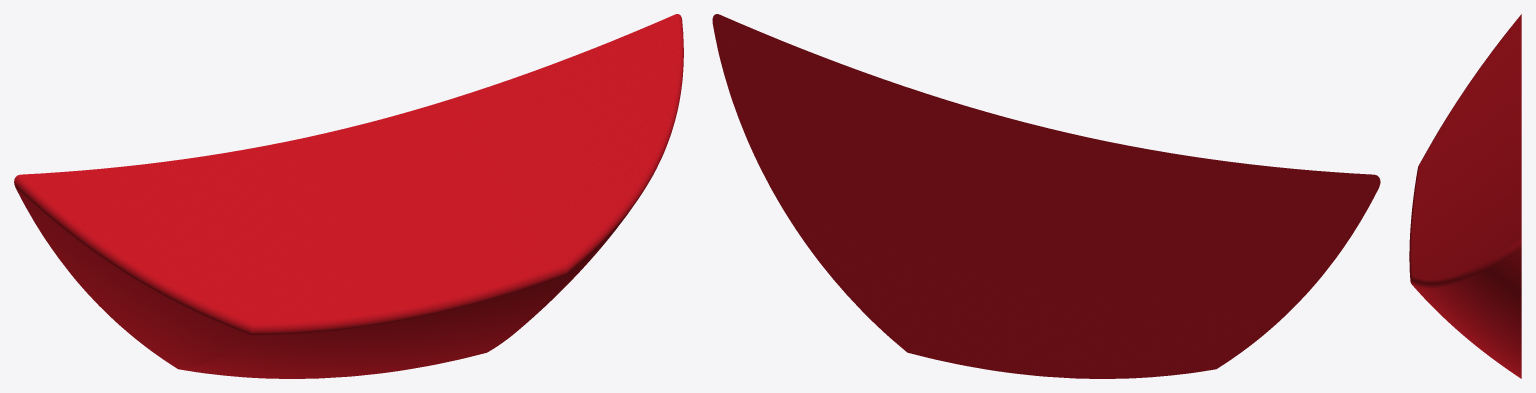
Rendered from hold_e_m_5.glb.
The picture shows the model from 3 angles, left to right: view 1: azimuth 30°, elevation 25°; view 2: azimuth 150°, elevation 25°; view 3: azimuth 270°, elevation 25°; orthographic projection. The views are drawn at different scales.
Visible parts, largest first — view 1: Object_2; view 2: Object_2; view 3: Object_2.
Part boxes in pixels (box(x1,y1,x2,y2)): Object_2: box(14, 14, 683, 378); Object_2: box(712, 14, 1380, 378); Object_2: box(1409, 14, 1521, 378).
Size of the model in its own units: 594 by 249 by 123.
1 material, 1 textured.
